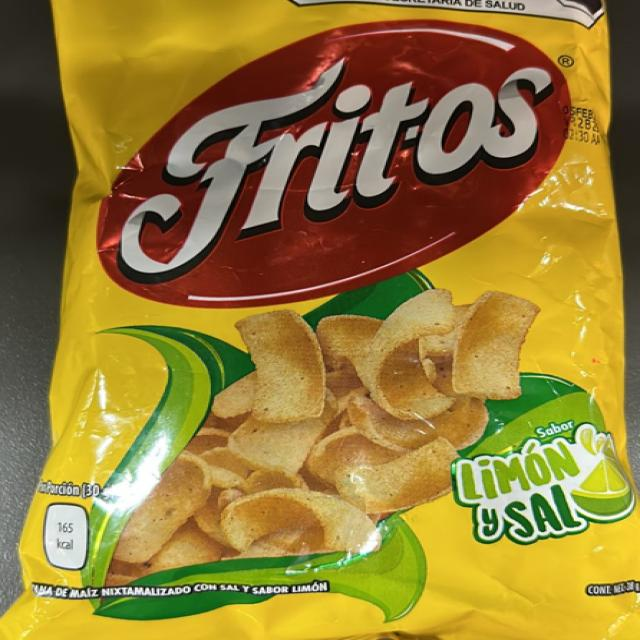fritosLimon: (79, 3, 612, 636)
